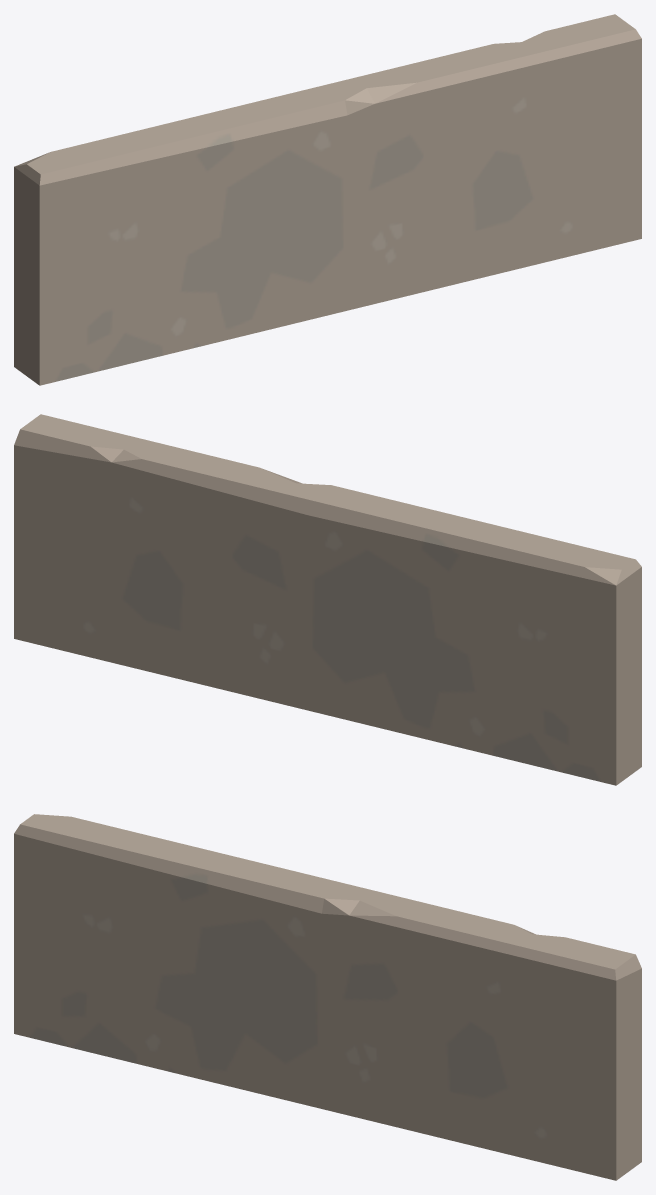
Rendered from SM_Bld_Village_Wall_02.glb.
The picture shows the model from 3 angles, top to bottom: view 1: azimuth 30°, elevation 25°; view 2: azimuth 150°, elevation 25°; view 3: azimuth 330°, elevation 25°; orthographic projection.
Parts seen in each view (by area): view 1: SM_Bld_Village_Wall_02; view 2: SM_Bld_Village_Wall_02; view 3: SM_Bld_Village_Wall_02.
Boxes of the visible parts, <box> form: SM_Bld_Village_Wall_02: <box>14,14,641,385</box>; SM_Bld_Village_Wall_02: <box>14,414,641,785</box>; SM_Bld_Village_Wall_02: <box>14,814,641,1180</box>.
Bounding box in the file's own units: 4.84 × 1.6 × 0.3583.
Materials: 1 (1 with a texture image).
